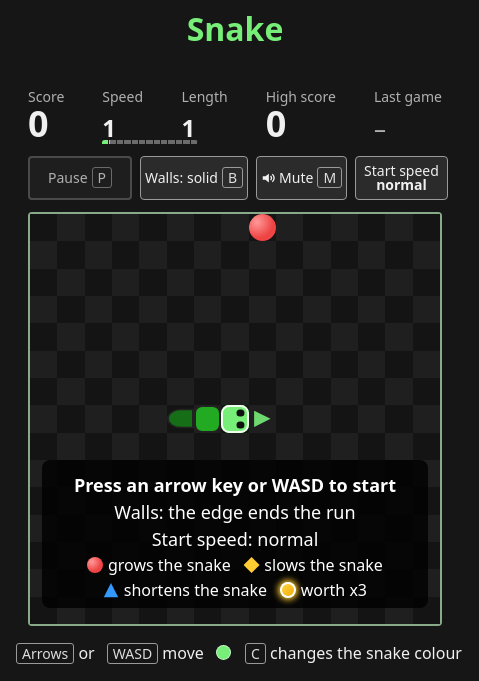
Test: game over dims the board with a Game over label and Restart still works
This screenshot has width=479, height=681.
Press ArrowUp
Wait 6000 ms
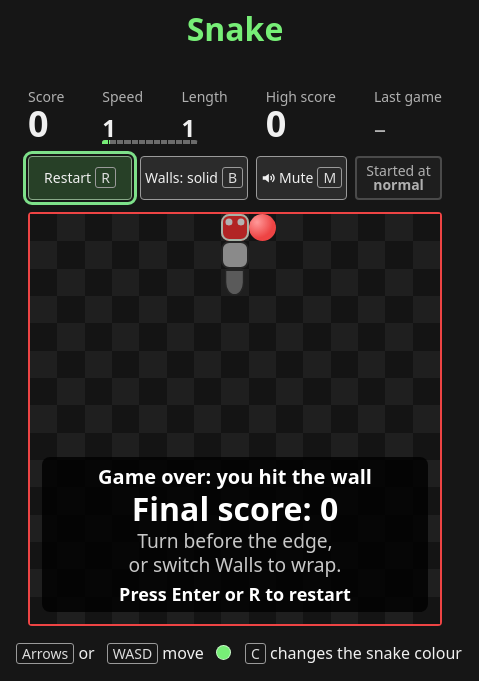
Click the button "Restart" at (80, 178), box x1=28 y1=156 x2=132 y2=200
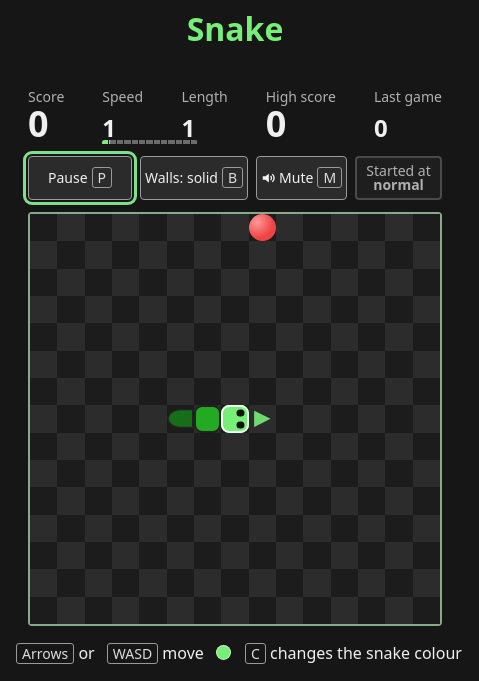
Now the element with test id "board-overlay" is gone
